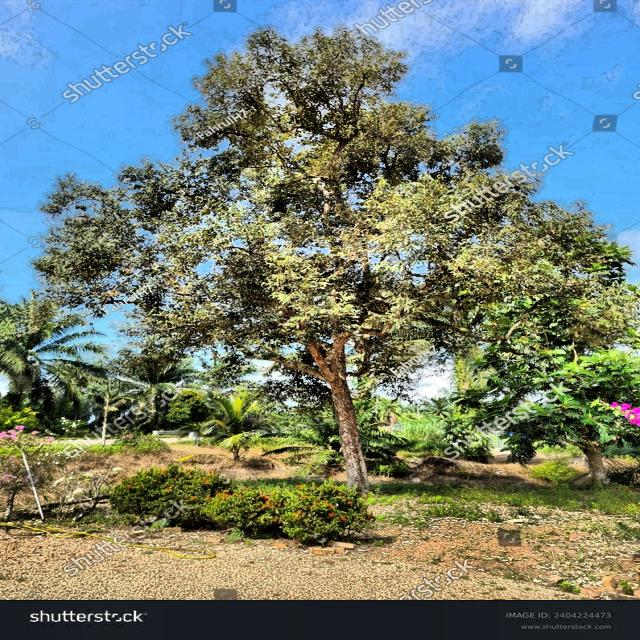arvore: (293, 294, 394, 497), (569, 411, 619, 495)
